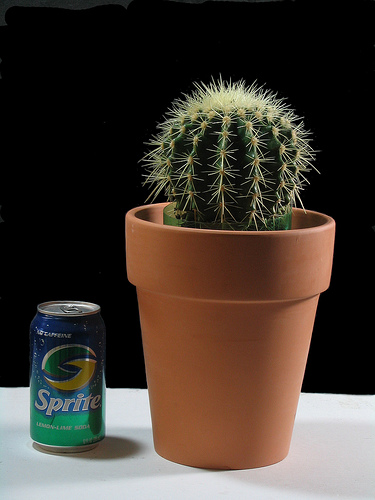tire: (122, 201, 335, 469)
